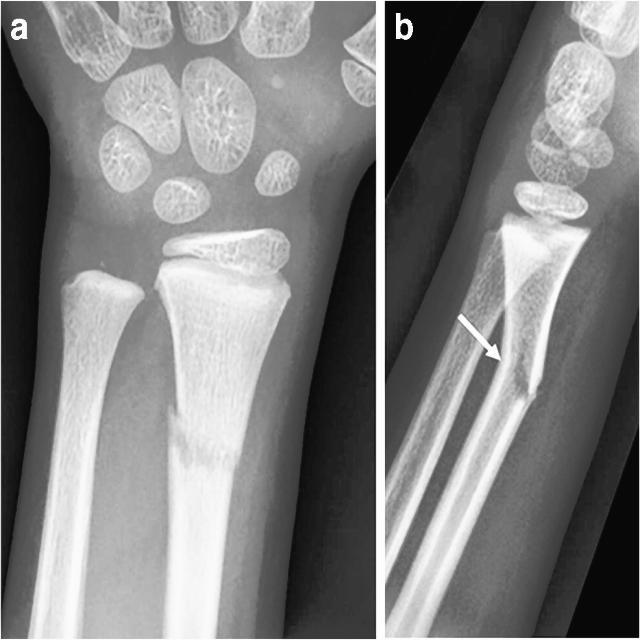GreenStick Fracture: (167, 396, 250, 480), (508, 338, 548, 412)
